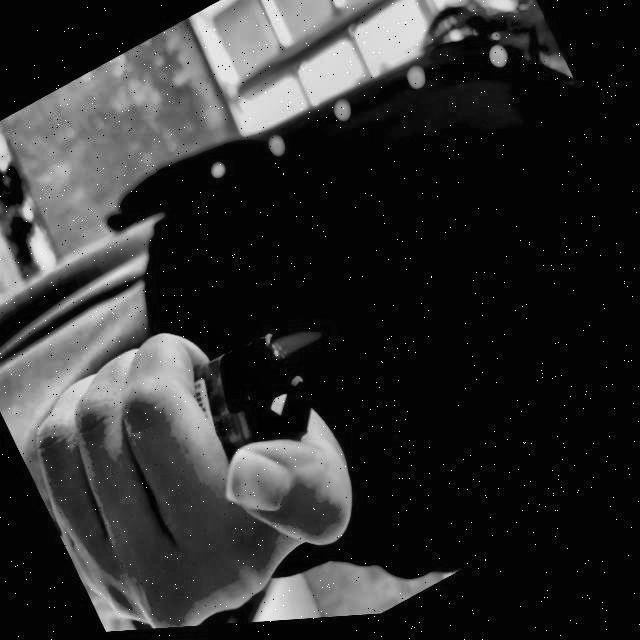Fire: (265, 309, 346, 377)
